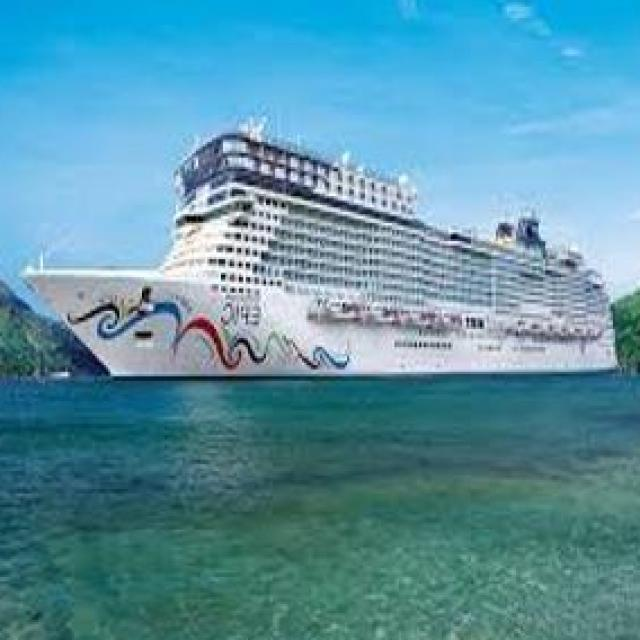passenger ship: (29, 133, 631, 380)
